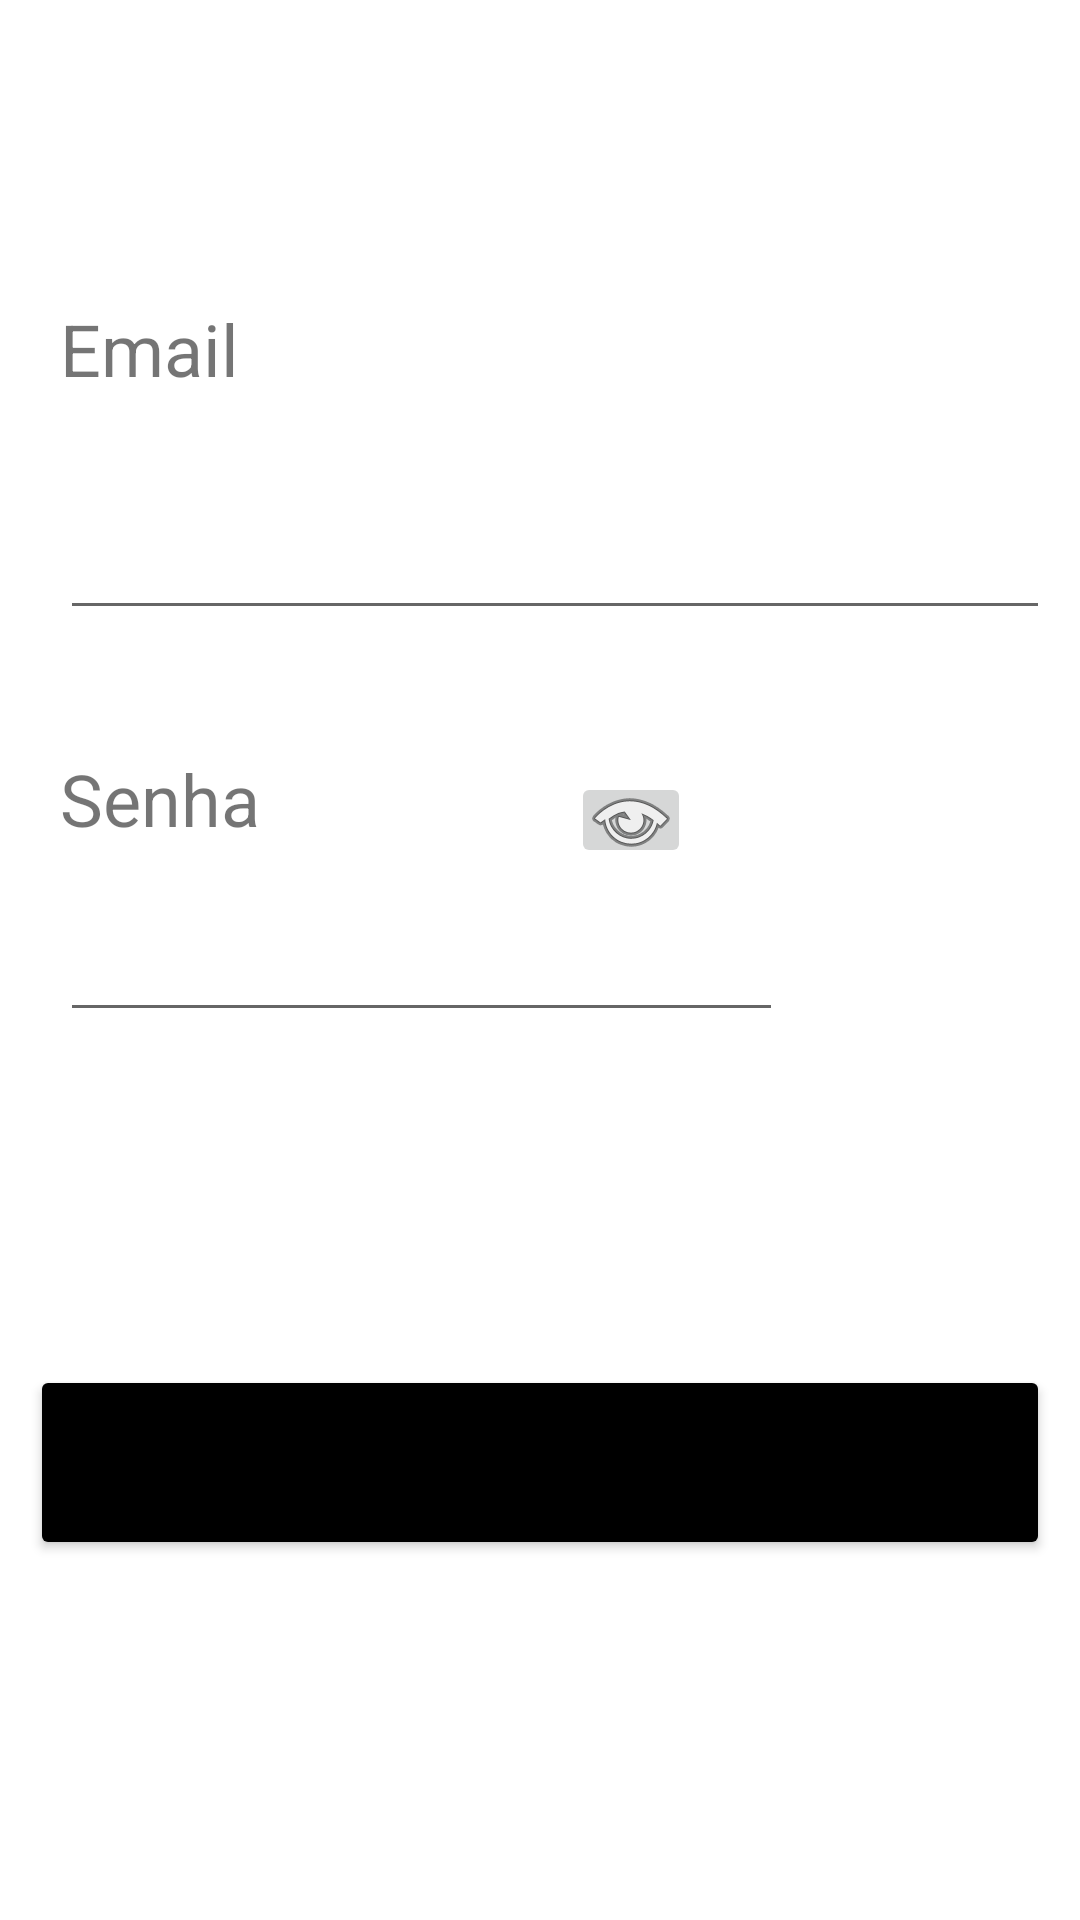

Where icons sit on this 1080×1920 app screen, as [x1,y1,x2,y2]:
view: [583,790,679,850]
